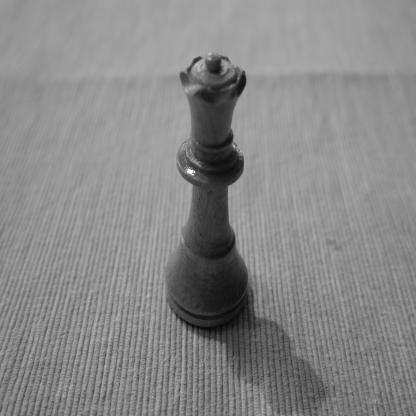white-queen: (163, 51, 249, 331)
